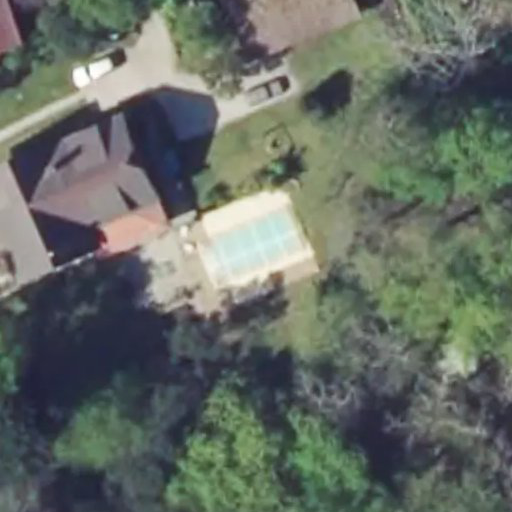pool: (213, 237, 299, 246)
